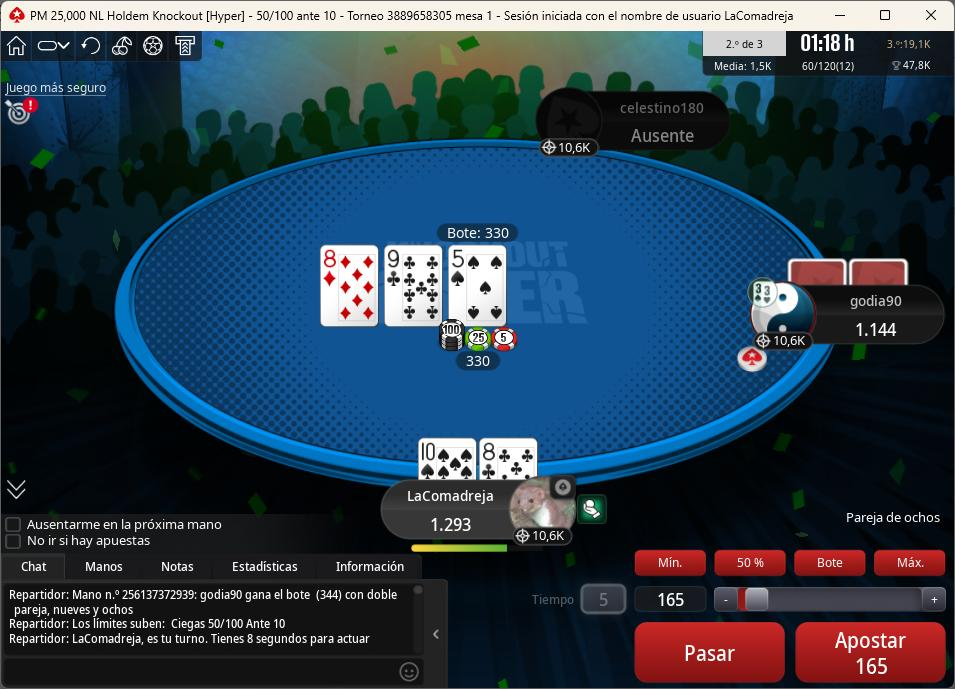ButtonCall: (628, 614, 784, 684)
ButtonMaxRaise: (872, 548, 948, 579)
ButtonMinRaise: (633, 548, 711, 580)
ButtonPotRaise: (791, 547, 871, 578)
ButtonRaise: (792, 618, 947, 684)
HiddenCards: (787, 258, 913, 286)
Player: (748, 283, 951, 351), (545, 91, 731, 158)
PlayerChips: (848, 318, 905, 340)
Pot: (435, 223, 520, 243)
PrincipalCards: (413, 438, 542, 484)
PrincipalCards1: (415, 436, 478, 482)
PrincipalCards2: (480, 436, 542, 482)
PrincipalPlayer: (385, 474, 587, 553)
PrincipalPlayerChips: (424, 517, 482, 537)
ShowedCards: (321, 241, 512, 332)
ShowedCards1: (319, 246, 384, 331)
ShowedCards2: (384, 246, 446, 329)
ShowedCards3: (447, 247, 510, 329)
SmallBigBlind: (247, 4, 346, 29)
TablePot: (425, 322, 529, 379)
